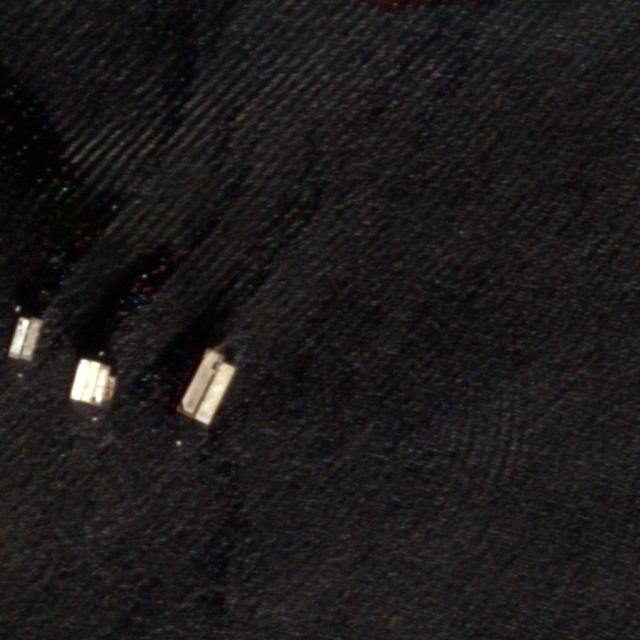boats: (175, 348, 238, 428), (72, 360, 112, 409), (6, 313, 43, 363)
